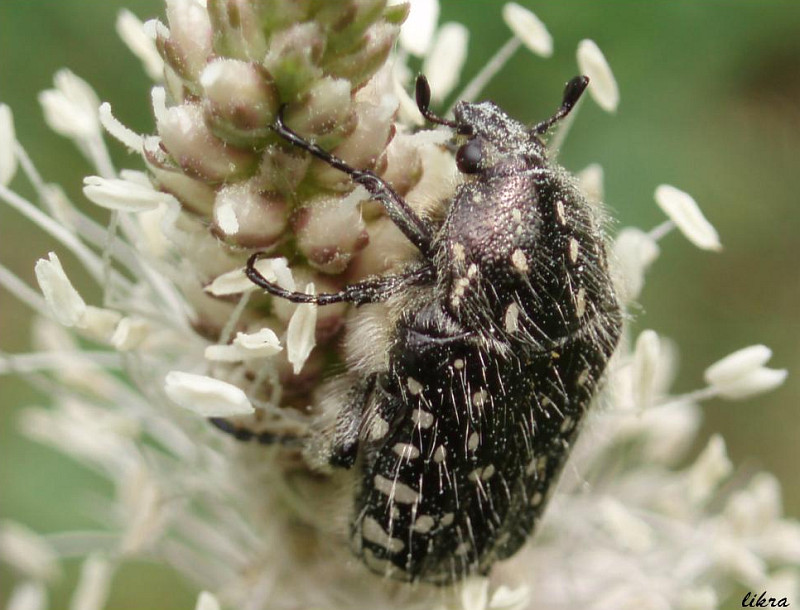Oxythyrea_funesta: (235, 60, 632, 590)
